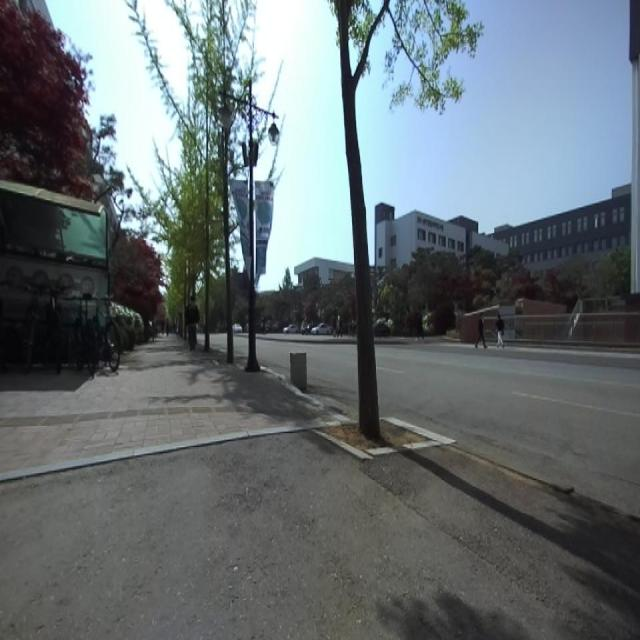sidewalk: (0, 419, 640, 640), (47, 335, 328, 465)
